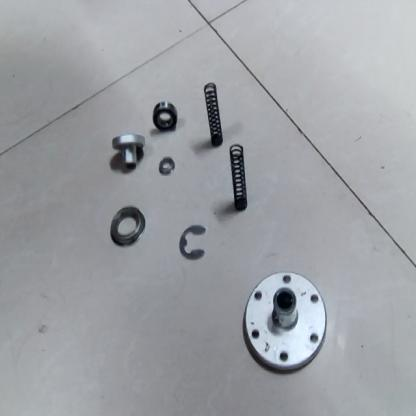FOD: (241, 270, 330, 374), (106, 204, 149, 250), (225, 145, 251, 215), (110, 130, 149, 174), (200, 79, 223, 149), (176, 221, 211, 265), (150, 99, 181, 133), (155, 155, 176, 178)
